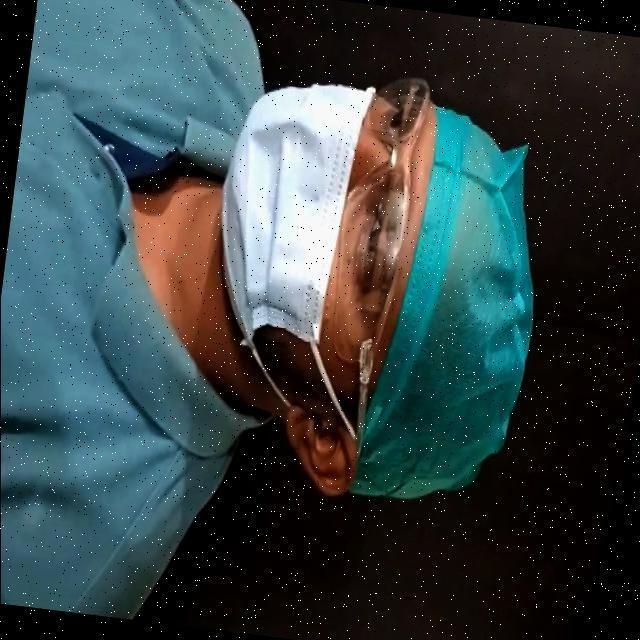gloves: (367, 100, 539, 522)
mask: (226, 70, 346, 362)
